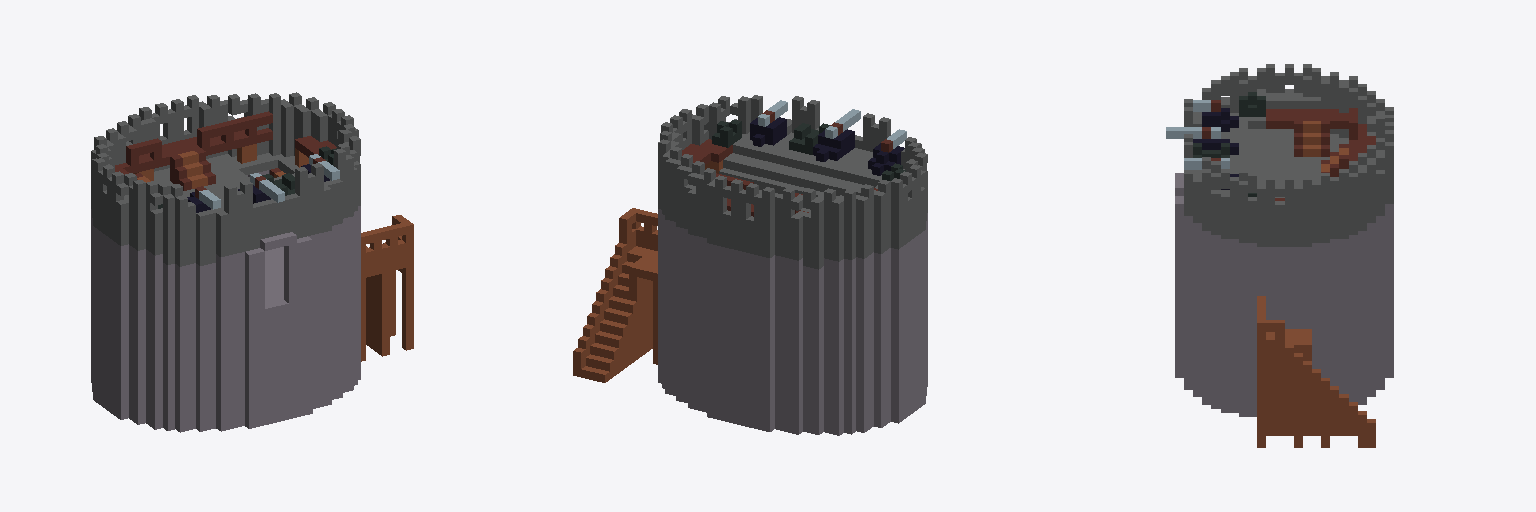
The picture shows the model from 3 angles: view 1: azimuth 30°, elevation 25°; view 2: azimuth 150°, elevation 25°; view 3: azimuth 270°, elevation 25°; orthographic projection.
Visible parts, largest first — view 1: object 1; view 2: object 1; view 3: object 1.
Boxes of the visible parts, x1,y1,x2,y2 form: object 1: [91, 92, 413, 432]; object 1: [573, 95, 927, 435]; object 1: [1166, 64, 1393, 447].
Bounding box in the file's own units: 3.7 × 2.9 × 2.5.
1 materials, 1 textured.